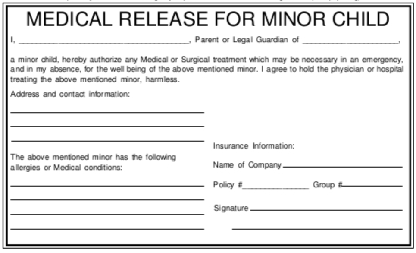textline: (9, 219, 208, 235), (9, 103, 209, 118), (16, 35, 191, 49), (9, 191, 208, 203), (9, 207, 208, 218), (9, 179, 207, 190), (9, 134, 208, 144), (248, 201, 405, 213), (9, 121, 206, 130), (229, 224, 407, 232), (280, 160, 406, 170), (301, 38, 406, 46), (241, 179, 310, 191), (341, 180, 407, 191)
